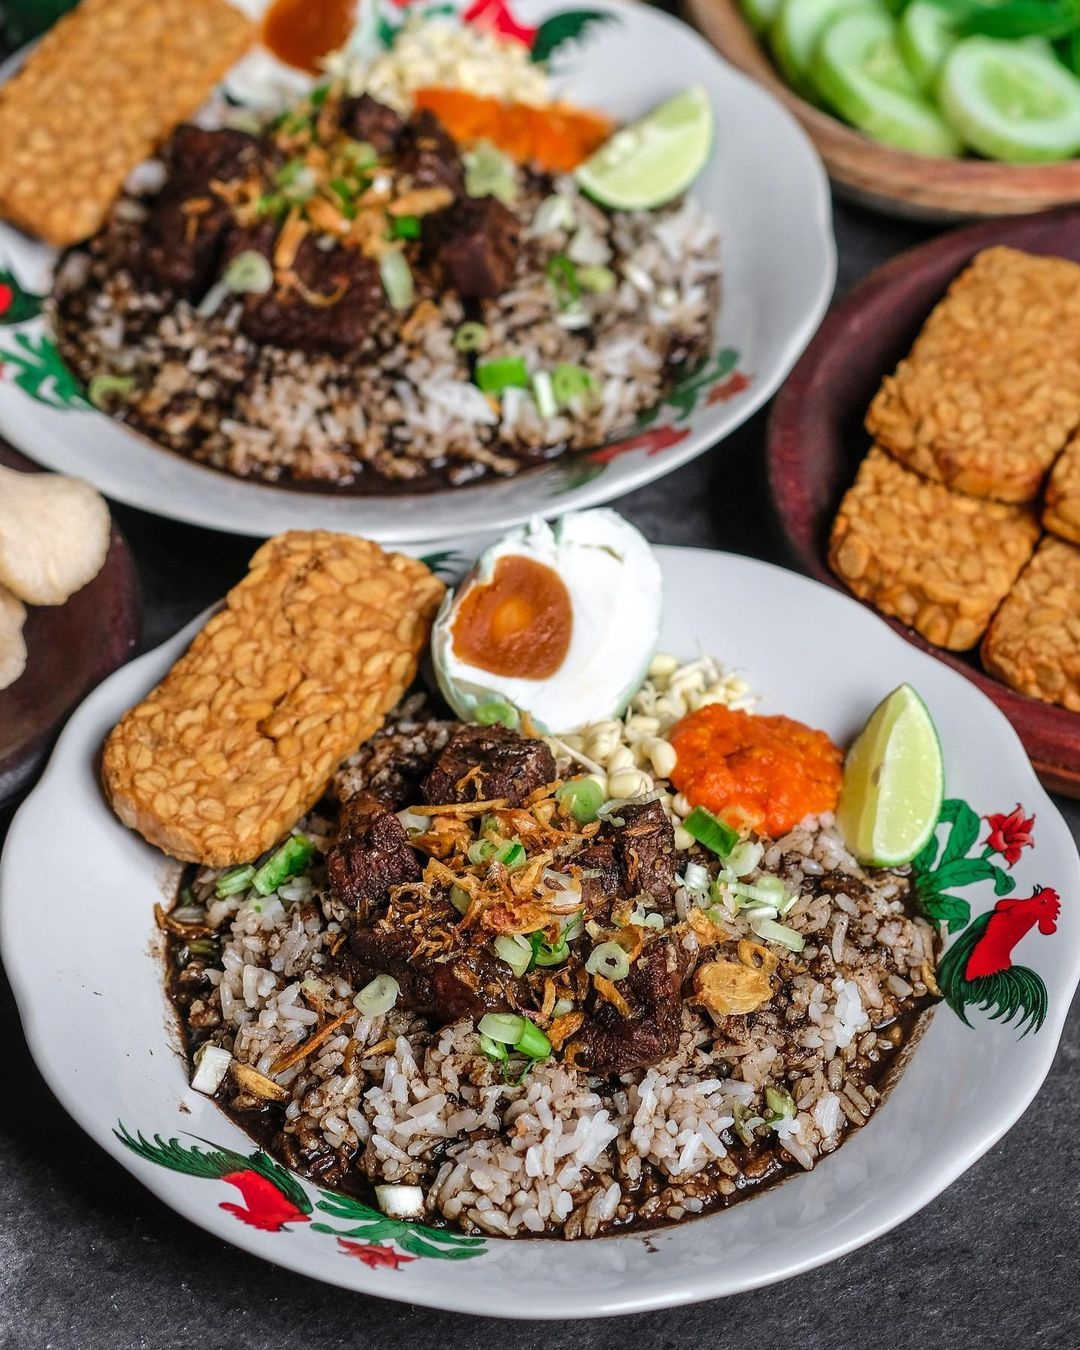rawon: (54, 529, 986, 1213)
